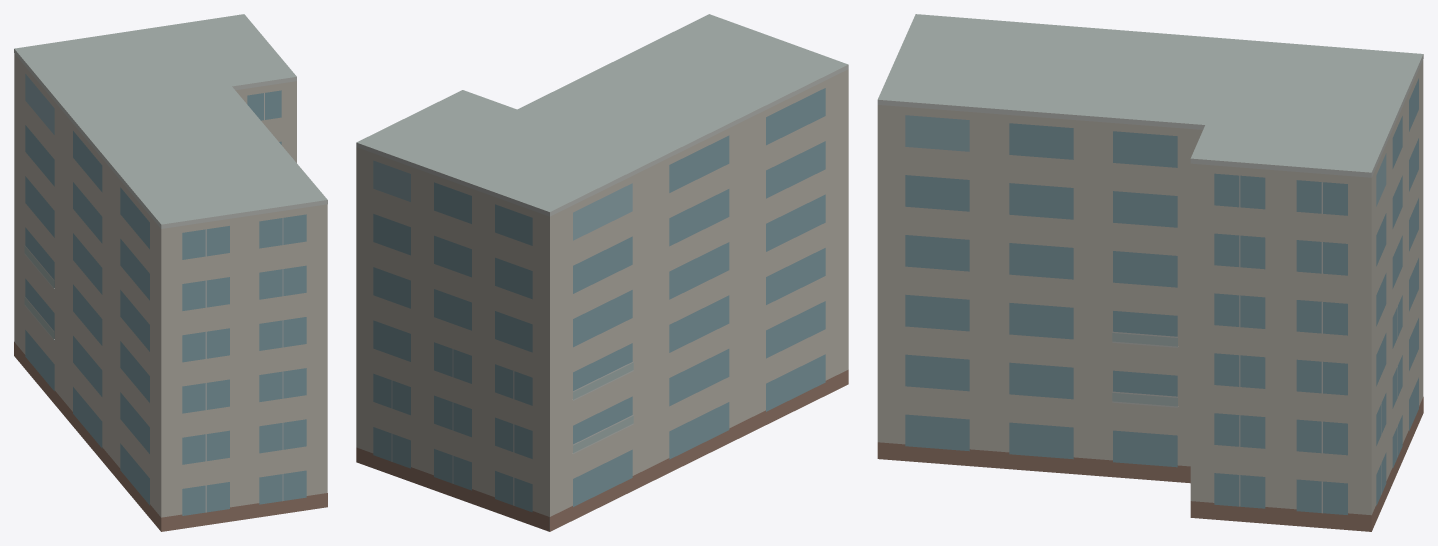
File: survey-upis-33039092.glb
The picture shows the model from 3 angles, left to right: view 1: azimuth 30°, elevation 25°; view 2: azimuth 150°, elevation 25°; view 3: azimuth 270°, elevation 25°; orthographic projection. The views are drawn at different scales.
Visible parts, largest first — view 1: survey-upis-33039092.tmp; view 2: survey-upis-33039092.tmp; view 3: survey-upis-33039092.tmp.
Part boxes in pixels (bbox=[...]): survey-upis-33039092.tmp: bbox=[14, 14, 327, 531]; survey-upis-33039092.tmp: bbox=[356, 14, 848, 531]; survey-upis-33039092.tmp: bbox=[877, 14, 1423, 531].
Size of the model in its own units: 16.3 by 17.2 by 23.7.
